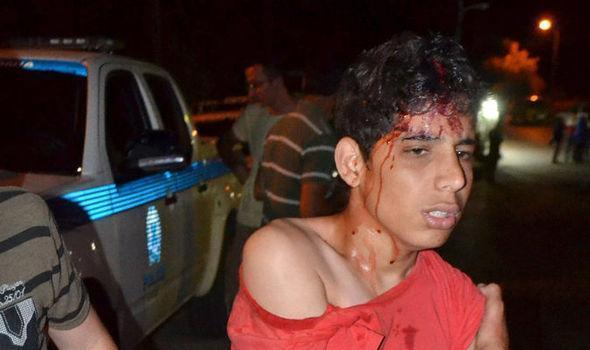Fire: (336, 50, 472, 293)
